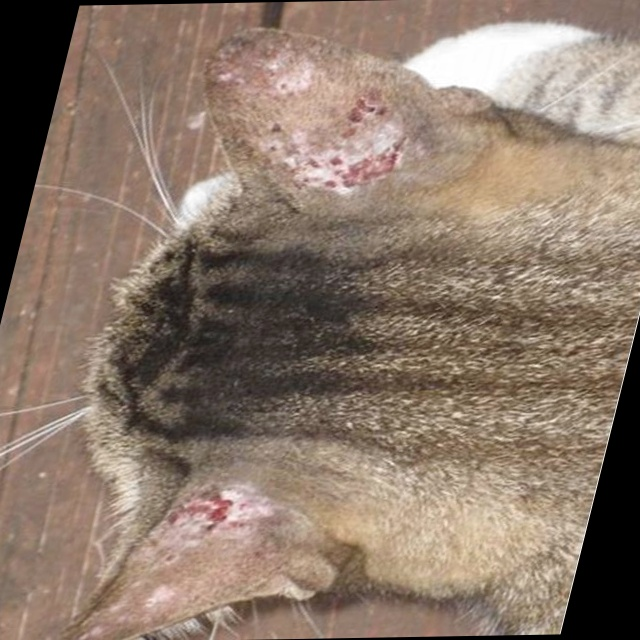ringworm: (227, 86, 424, 209), (114, 479, 267, 603)
